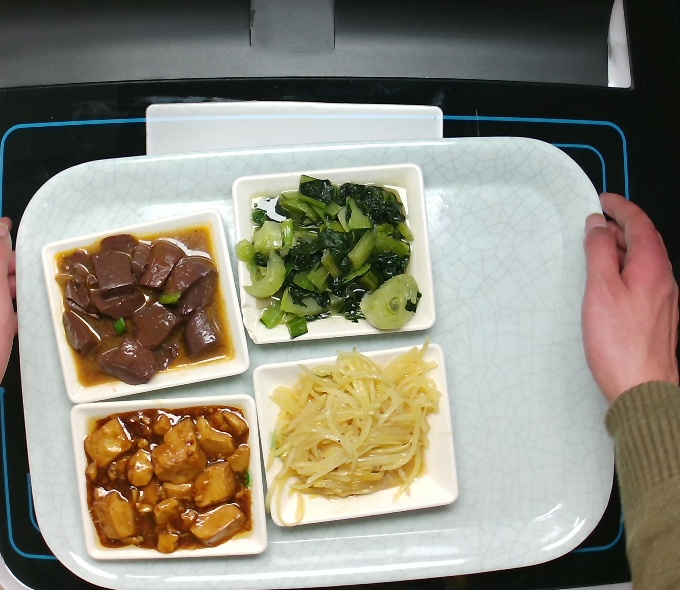wcq-MaPoDouFu: (86, 404, 261, 563)
wcq-NiuXue: (48, 226, 223, 385)
wcq-TuDouSi: (274, 348, 449, 507)
wcq-YouDongCai: (245, 179, 420, 338)
